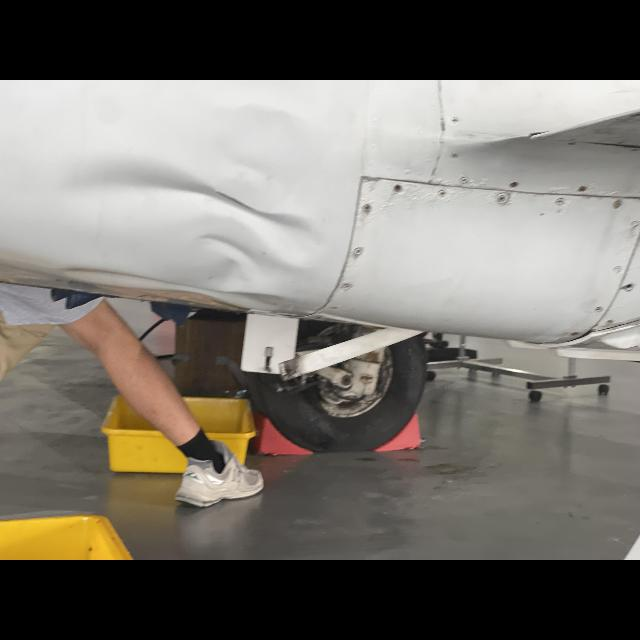dent: (42, 145, 318, 281)
